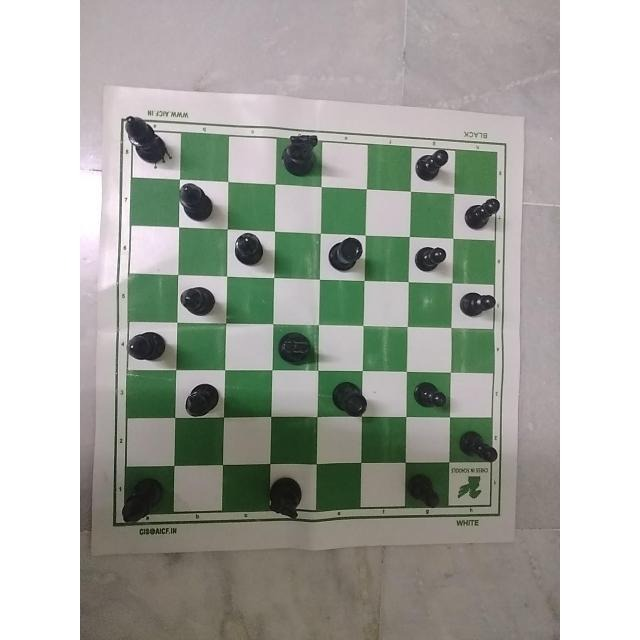black-bishop: (113, 470, 168, 530), (168, 175, 228, 227), (115, 113, 176, 163), (173, 283, 223, 329), (178, 373, 223, 422), (122, 328, 168, 371), (229, 226, 273, 269)
black-knight: (260, 465, 318, 525), (279, 127, 326, 183), (275, 319, 323, 371)
black-pawn: (451, 283, 503, 329), (413, 138, 457, 186), (451, 424, 505, 463), (459, 189, 509, 228), (405, 373, 455, 411), (404, 468, 447, 508), (412, 243, 452, 279)
black-rook: (327, 229, 369, 280), (327, 374, 374, 418)
